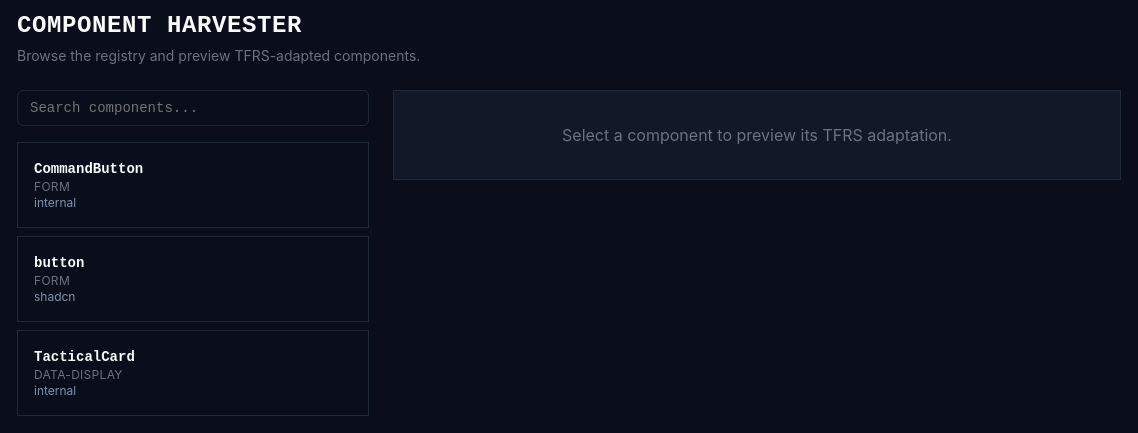
ComponentHarvester › filters the component list by search query
This screenshot has width=1138, height=433.
Expected: the heading "CommandButton" is shown, left=34, top=161, right=143, bottom=177
Step 1. Type "tactical" into the field with placeholder "Search components..." → [193, 108], box left=17, top=90, right=369, bottom=126
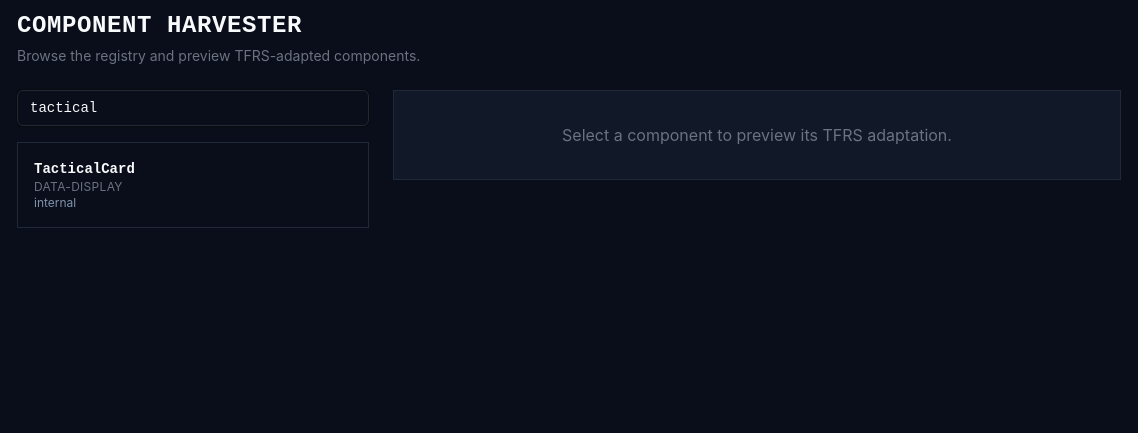
Expected: the heading "TacticalCard" is shown, left=34, top=161, right=135, bottom=177
Now the button "CommandButton" is gone
Now the button "Button" is gone
